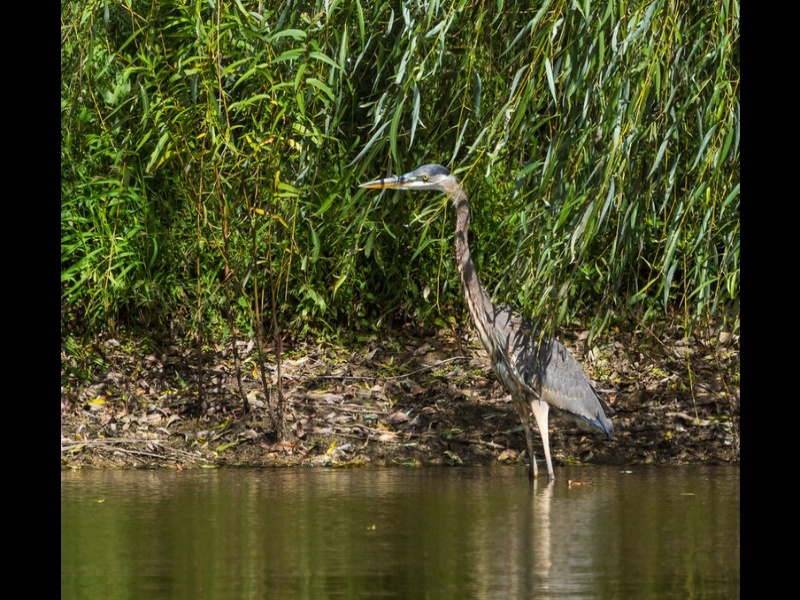heron: (358, 162, 615, 476)
